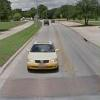Car: (23, 37, 62, 77)
